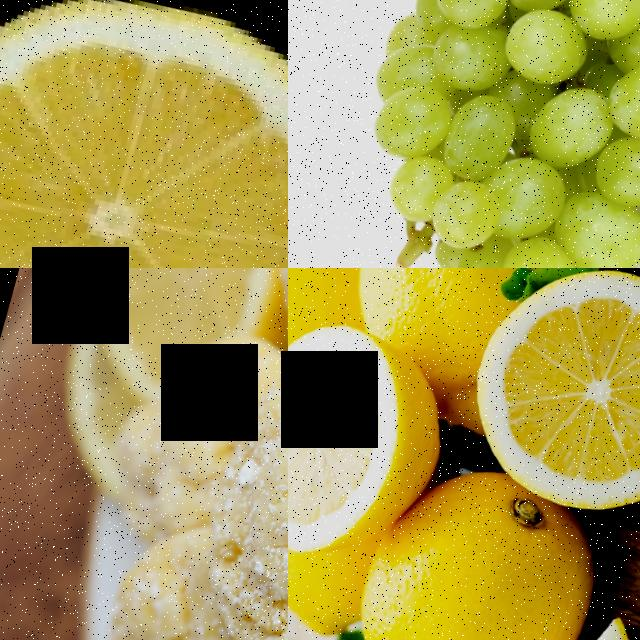grapes: (288, 0, 640, 268)
lemon: (0, 0, 288, 268), (444, 268, 640, 561), (288, 302, 456, 588), (320, 486, 590, 640), (327, 268, 545, 382), (69, 268, 288, 374), (288, 268, 384, 354), (511, 607, 640, 640)
